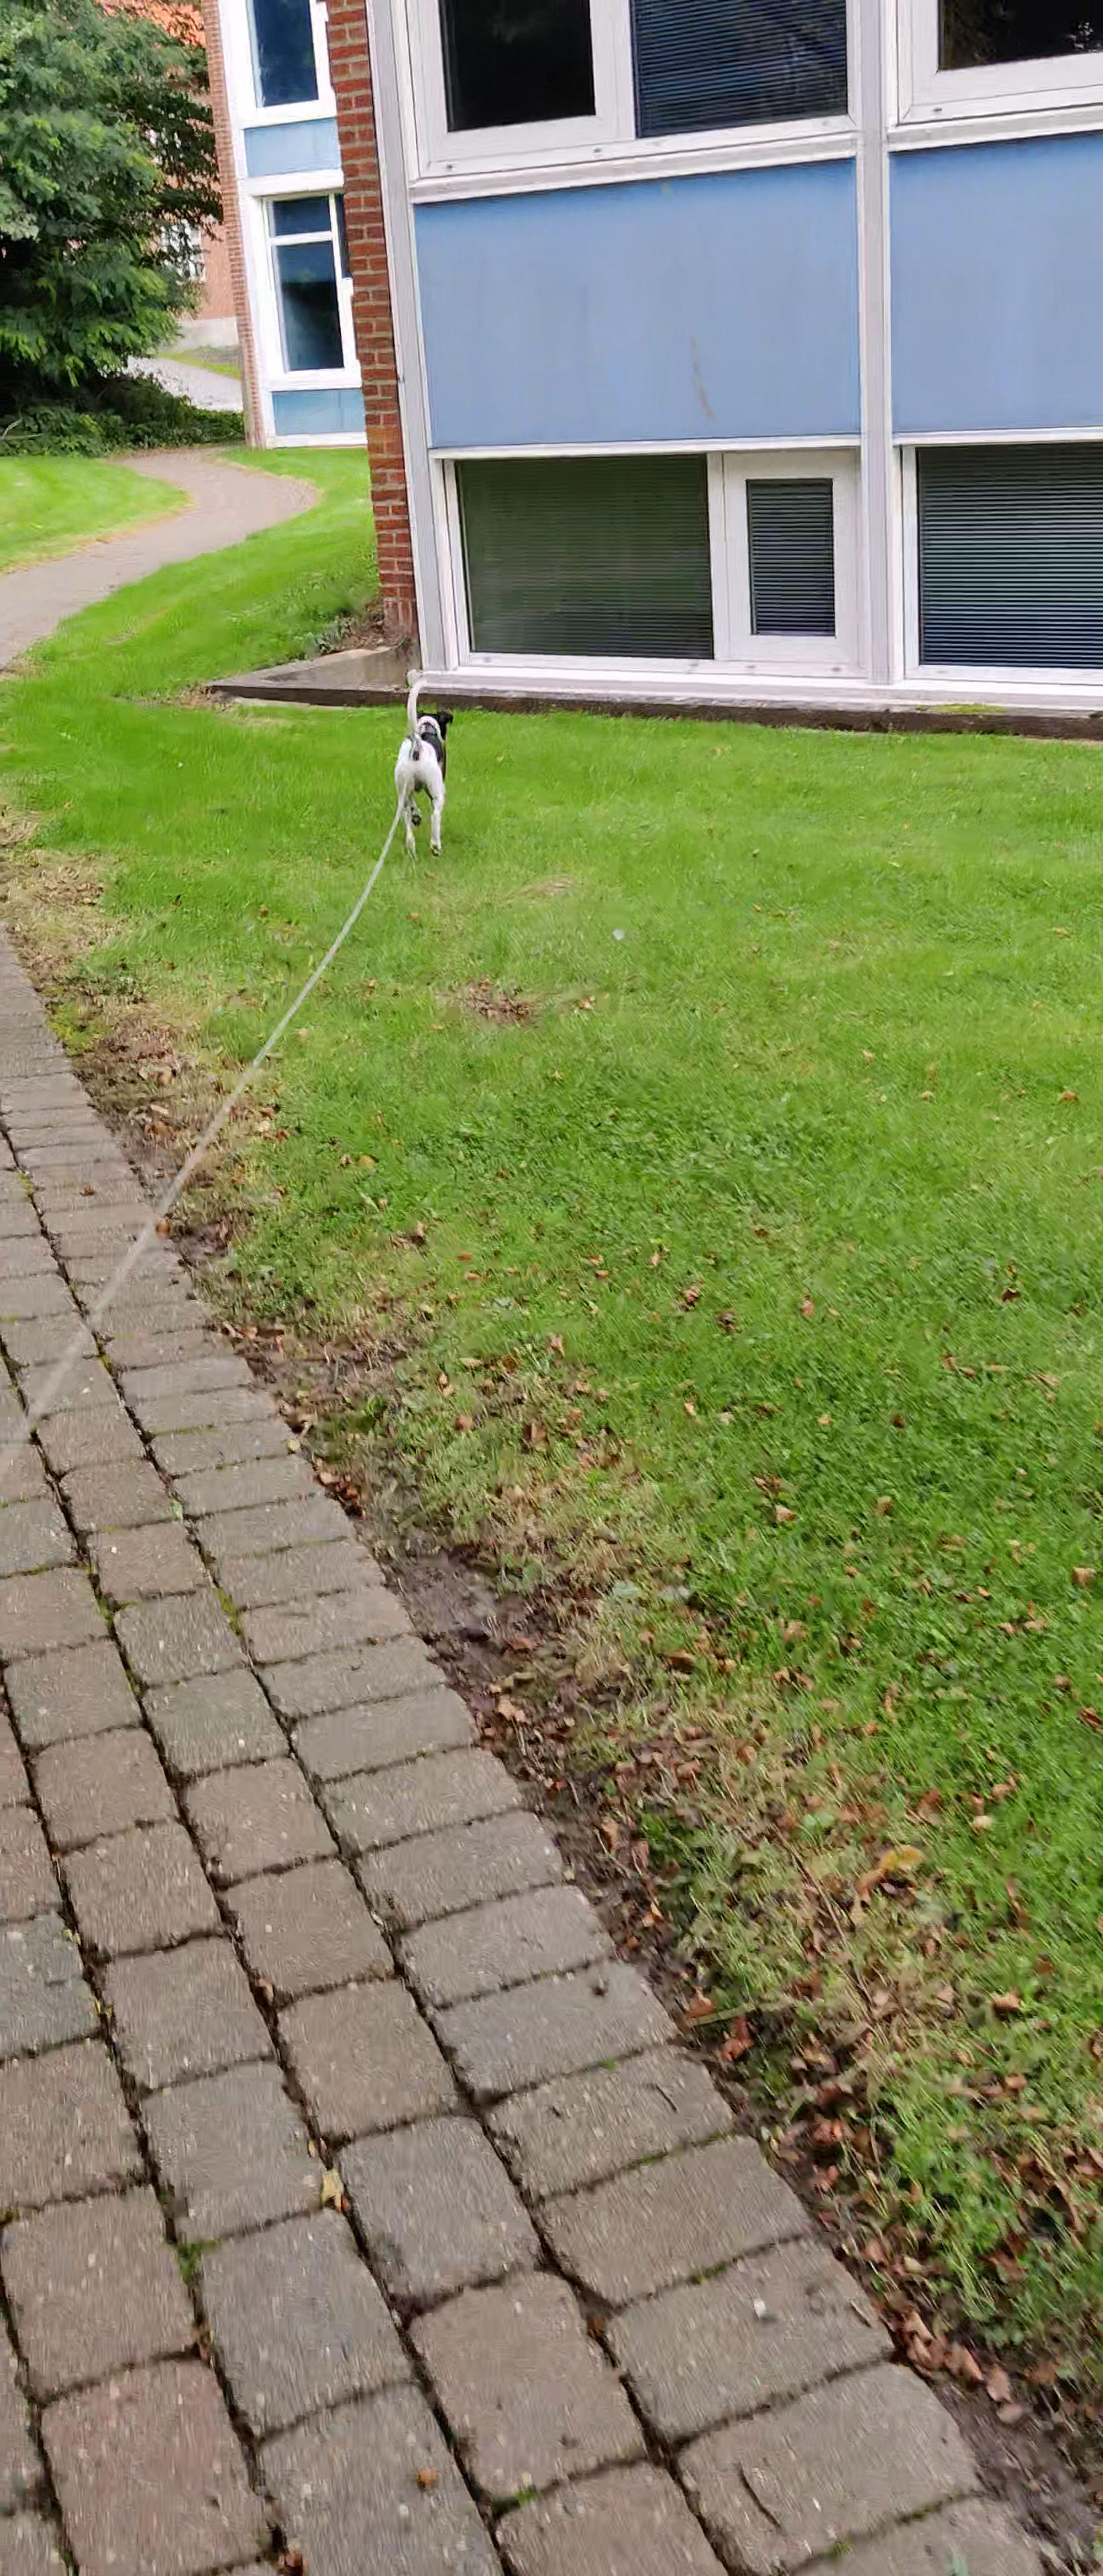Dog: (380, 667, 467, 869)
